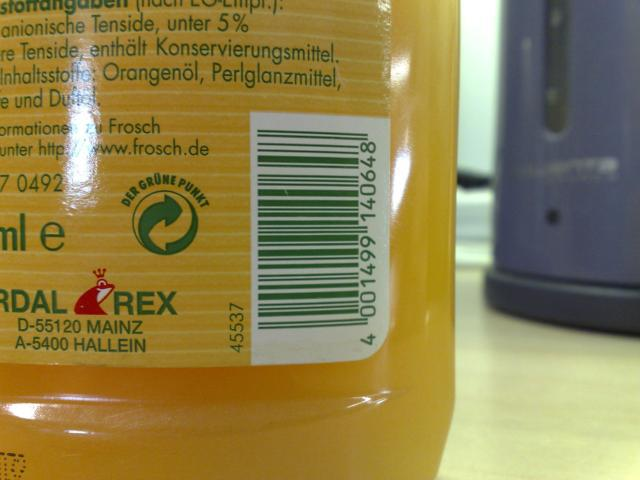Barkod: (256, 128, 359, 328)
